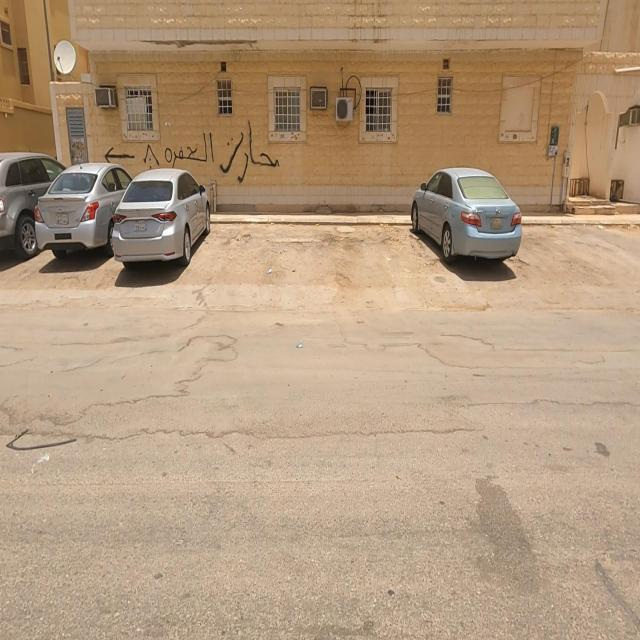debris: (190, 67, 312, 260), (132, 68, 236, 228), (60, 95, 196, 216)
